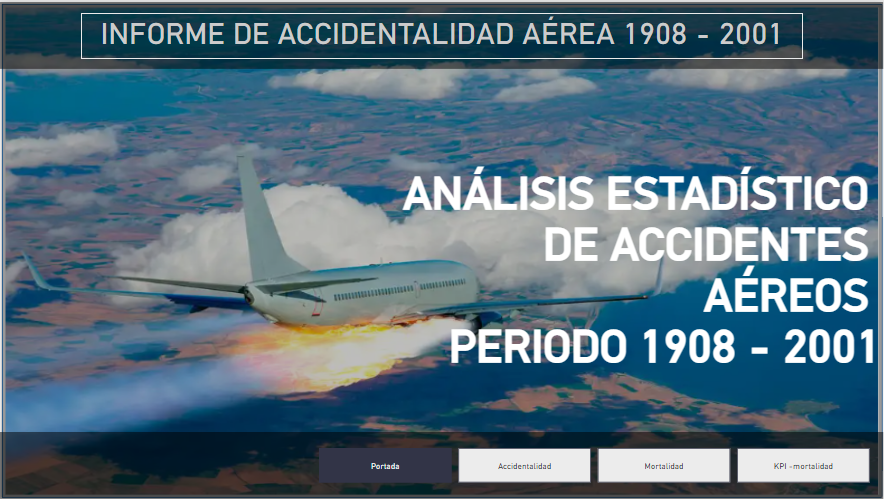

The page's visual inventory and layout, read from the dashboard file:
{"tool":"powerbi","page":{"name":"Portada","canvas":[1280,720],"ordinal":0},"visuals":[{"type":"image","box":[0,0,1279.7,720.3],"z":0},{"type":"shape","box":[0,0,1279.7,720.3],"z":1000},{"type":"shape","box":[0,0,1279.7,97.1],"z":2000},{"type":"shape","box":[0,623.2,1279.7,97.1],"z":3000},{"type":"textbox","box":[117.4,15.9,1046.4,66.7],"z":4000},{"type":"textbox","box":[576.3,232.9,703.9,364.5],"z":5000},{"type":"pageNavigator","box":[462.3,646.4,800,50.7],"z":6000}]}

Visuals, with their boxes in screenshot pixels (x1, y1, x2, y2), scaled from the page's 1280x720 canvas onto the 884x499 screenshot:
image: bbox=[0, 0, 883, 498]
shape: bbox=[0, 0, 883, 498]
shape: bbox=[0, 0, 883, 67]
shape: bbox=[0, 432, 883, 498]
textbox: bbox=[81, 11, 804, 57]
textbox: bbox=[398, 161, 883, 414]
pageNavigator: bbox=[319, 448, 872, 483]
